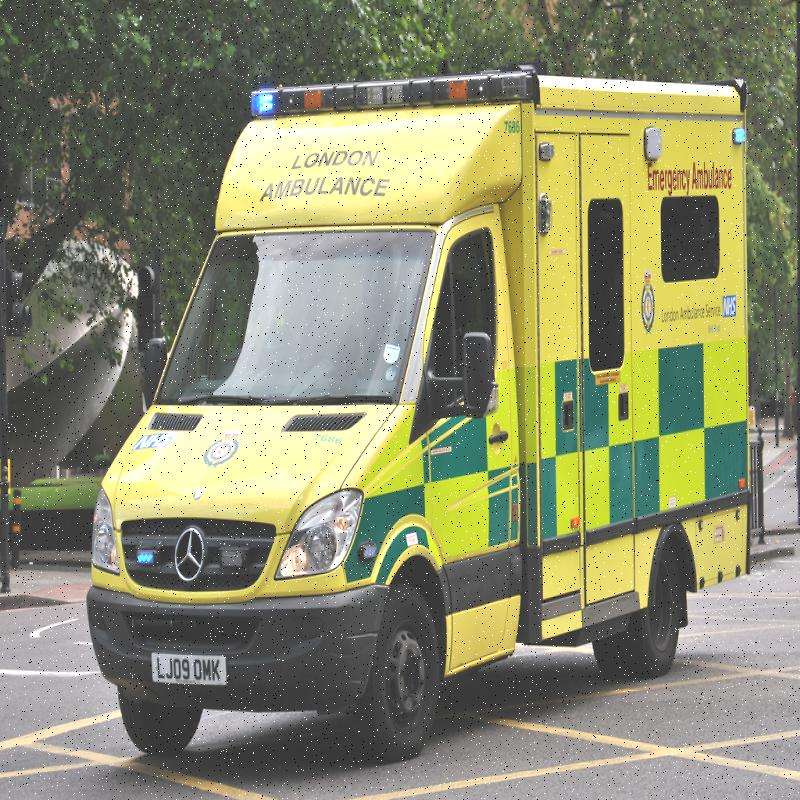ambulance: (103, 74, 763, 749)
